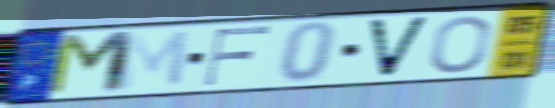0: (273, 19, 342, 86)
F: (200, 24, 275, 88)
M: (43, 29, 138, 99), (114, 28, 193, 93)
O: (427, 13, 494, 75)
V: (364, 15, 434, 80)
